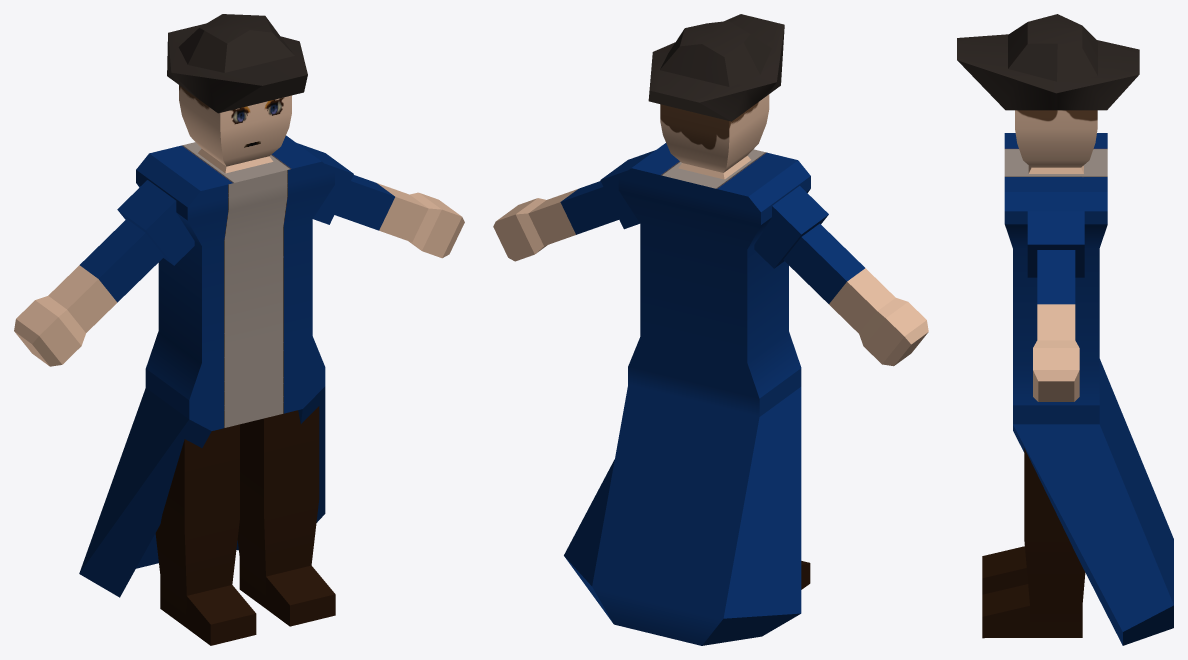
Rendered from VerdstaltModel.fbx.
3 views of the same model, side by side, from view 1: azimuth 30°, elevation 25°; view 2: azimuth 150°, elevation 25°; view 3: azimuth 270°, elevation 25° (orthographic). The views are drawn at different scales.
Visible parts, largest first — view 1: pCube1, pCube5, pCube4, pCube3, pCube7, pCube2, pCube6; view 2: pCube1, pCube3, pCube7, pCube2, pCube6; view 3: pCube1, pCube7, pCube5, pCube2, pCube6, pCube4.
Boxes of the visible parts, left/top/right/bottom form: pCube1: left=79, top=135, right=334, bottom=597; pCube5: left=237, top=406, right=335, bottom=626; pCube4: left=155, top=424, right=256, bottom=645; pCube3: left=14, top=180, right=194, bottom=366; pCube7: left=167, top=14, right=307, bottom=113; pCube2: left=297, top=143, right=464, bottom=258; pCube6: left=179, top=85, right=291, bottom=173; pCube1: left=564, top=143, right=810, bottom=645; pCube3: left=754, top=186, right=928, bottom=366; pCube7: left=648, top=14, right=784, bottom=121; pCube2: left=493, top=150, right=655, bottom=261; pCube6: left=660, top=94, right=769, bottom=179; pCube1: left=1004, top=133, right=1173, bottom=645; pCube7: left=957, top=14, right=1139, bottom=110; pCube5: left=982, top=448, right=1085, bottom=638; pCube2: left=1027, top=211, right=1084, bottom=401; pCube6: left=1015, top=110, right=1097, bottom=173; pCube4: left=982, top=546, right=1027, bottom=594.
Size of the model in its own units: 7.81 by 10.07 by 3.4.
